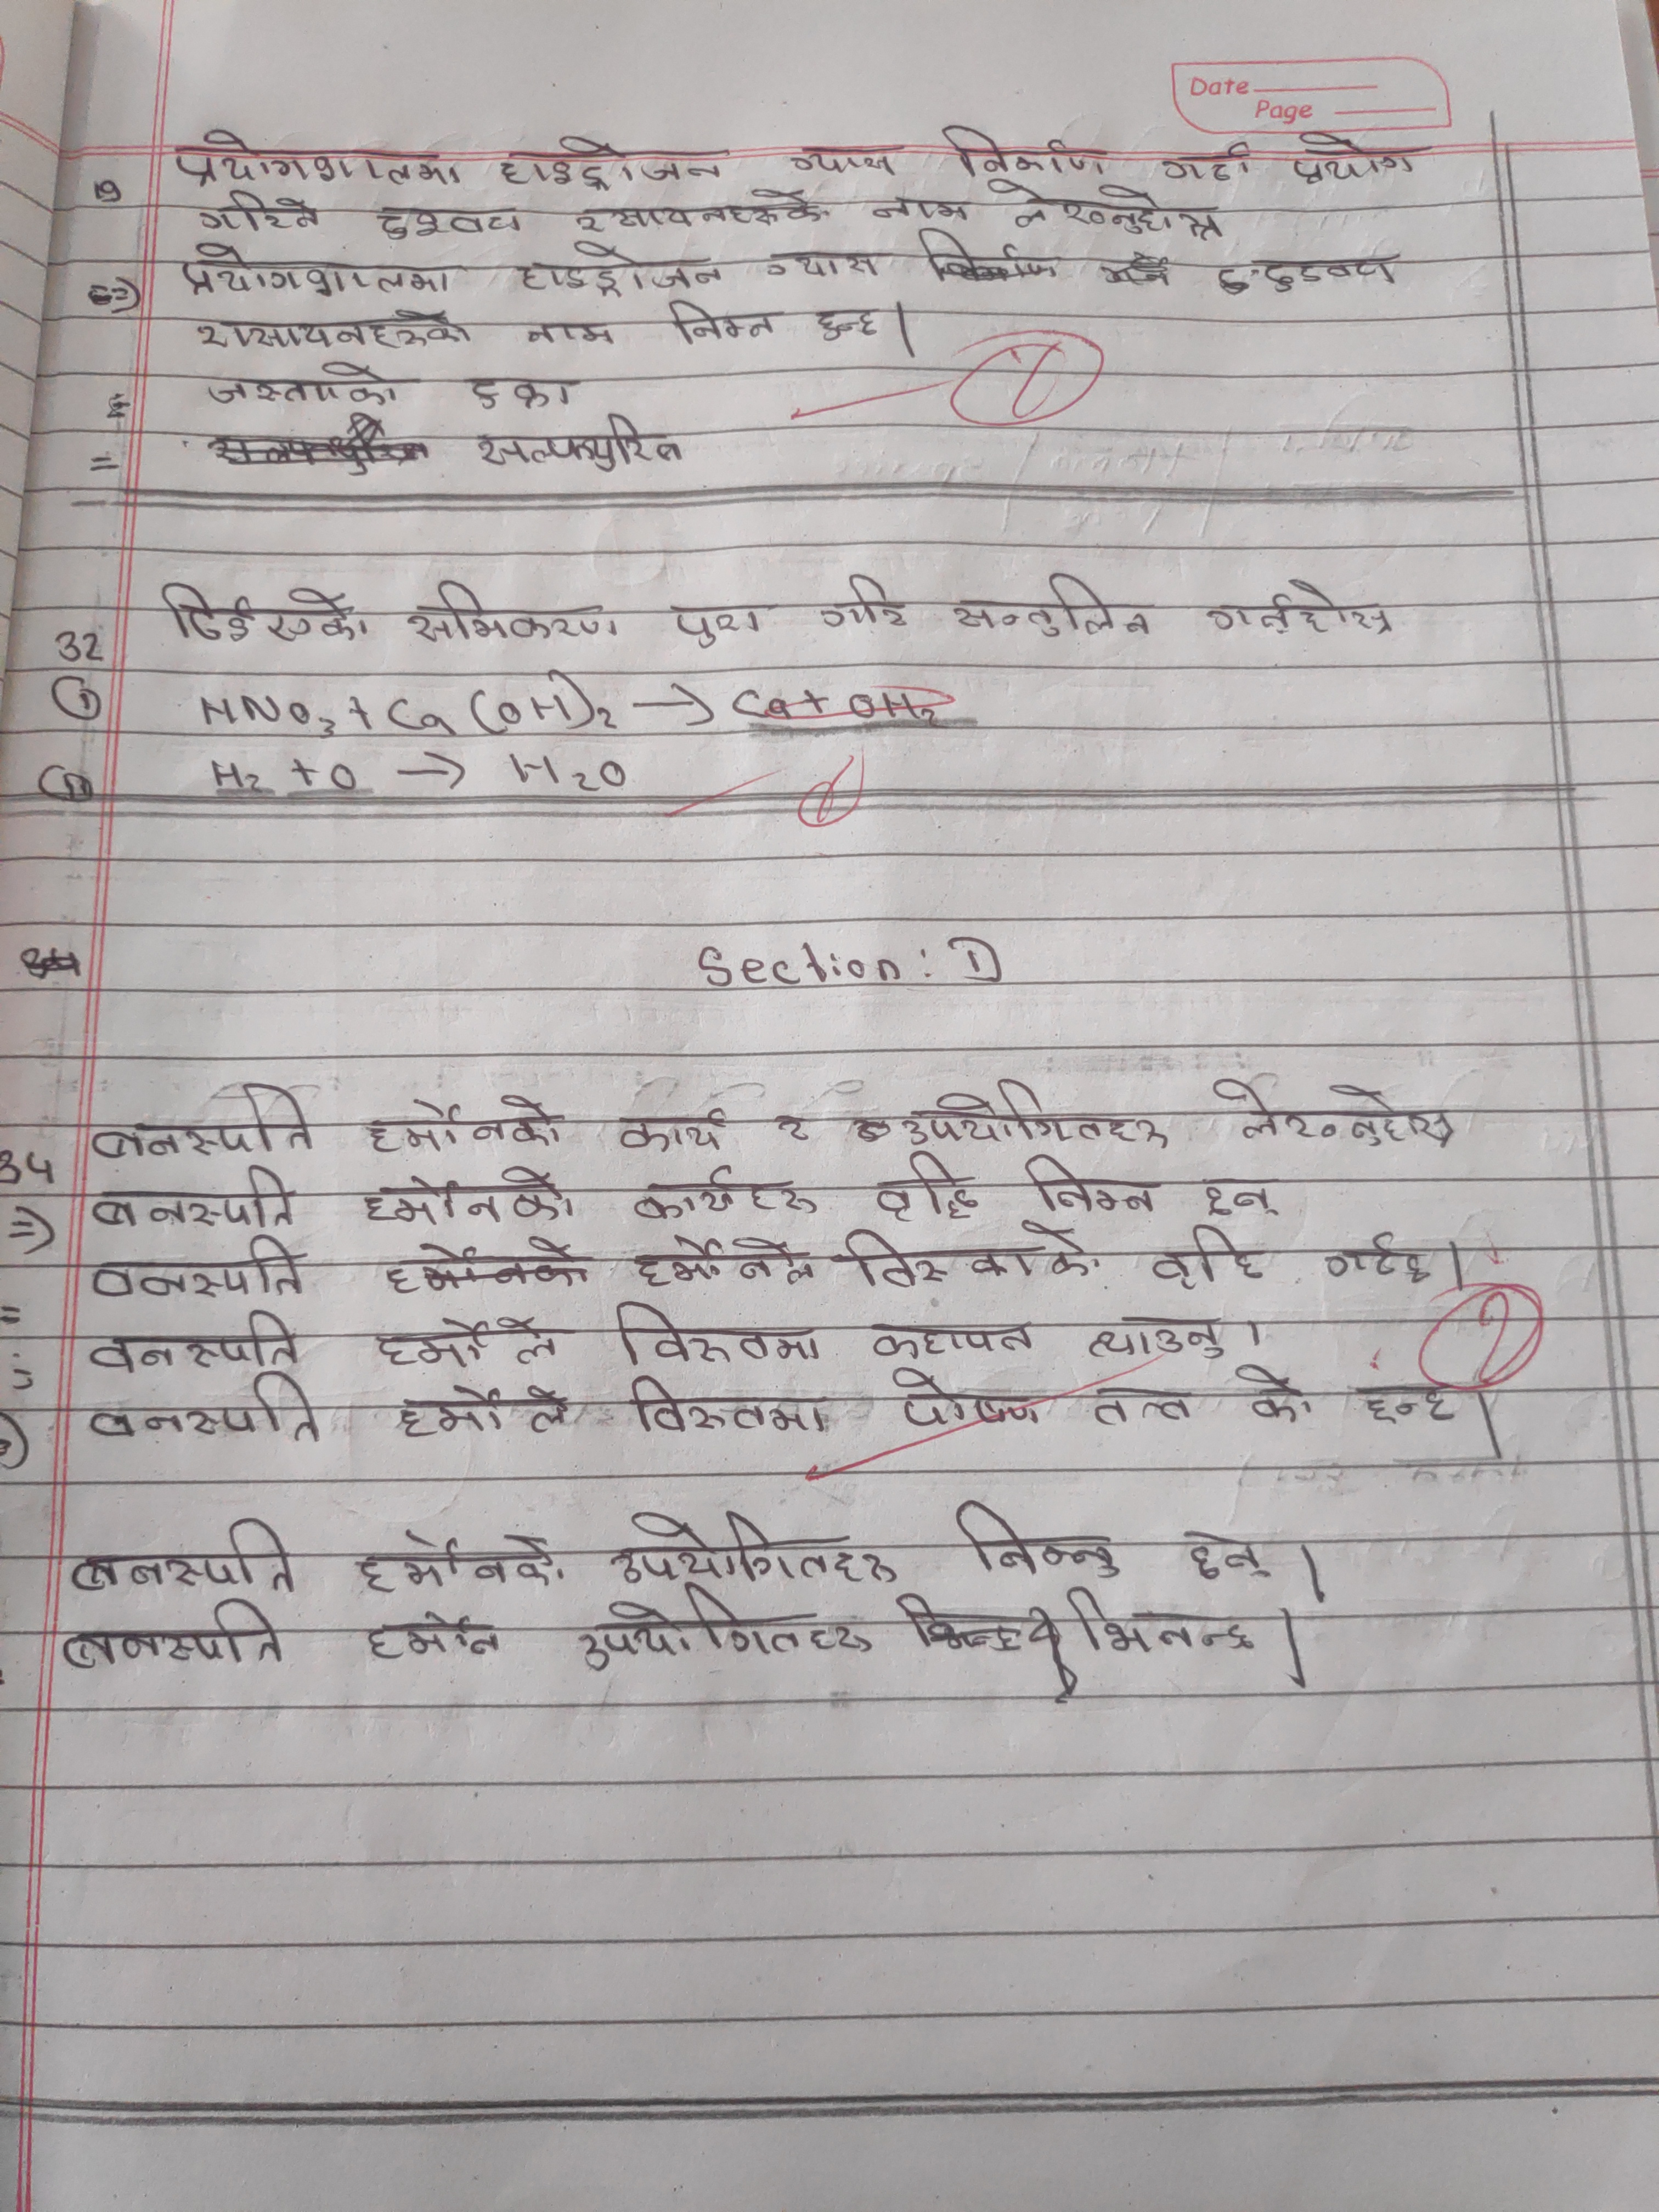text: (573, 1585, 875, 1676), (606, 1503, 892, 1588), (897, 1076, 1171, 1151), (171, 127, 469, 193), (70, 1515, 301, 1597), (1211, 1073, 1469, 1146), (87, 1369, 328, 1446), (52, 1594, 286, 1672), (84, 1082, 315, 1158), (842, 1221, 1098, 1287), (612, 1296, 830, 1372), (75, 1306, 308, 1378), (179, 242, 464, 300), (1065, 1581, 1260, 1662), (153, 577, 371, 648), (350, 1529, 573, 1599), (404, 578, 626, 648), (950, 1494, 1126, 1581), (950, 571, 1161, 643), (84, 1163, 295, 1235), (988, 176, 1223, 239), (82, 1235, 307, 1299), (356, 1160, 577, 1224), (566, 185, 835, 235), (193, 305, 467, 354), (471, 415, 687, 475), (627, 1374, 830, 1439), (364, 1092, 568, 1155), (1204, 577, 1405, 639), (514, 239, 723, 298), (202, 354, 410, 413), (369, 1306, 559, 1371), (626, 1231, 819, 1292), (885, 1362, 1051, 1430), (498, 139, 725, 188), (629, 1163, 817, 1221), (392, 1383, 573, 1440), (1208, 247, 1408, 298), (931, 125, 1110, 181), (1021, 1150, 1159, 1219), (861, 1313, 1040, 1366), (1284, 122, 1420, 185), (866, 1153, 988, 1223), (1148, 1223, 1269, 1292), (368, 197, 530, 244), (364, 1609, 505, 1662), (1227, 1353, 1323, 1430), (1087, 1312, 1234, 1360), (817, 568, 917, 639), (1314, 1231, 1436, 1287), (192, 186, 319, 239), (666, 296, 779, 348), (610, 1108, 735, 1155), (1356, 1374, 1455, 1432), (464, 368, 580, 415), (1183, 1524, 1269, 1587), (1087, 1381, 1199, 1428), (664, 599, 765, 650), (782, 136, 903, 178), (755, 246, 885, 284), (1162, 138, 1262, 186), (518, 312, 617, 354), (1195, 1176, 1283, 1221), (870, 186, 972, 223), (809, 300, 885, 341), (774, 1109, 817, 1150)
